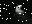person: (16, 7, 25, 21)
